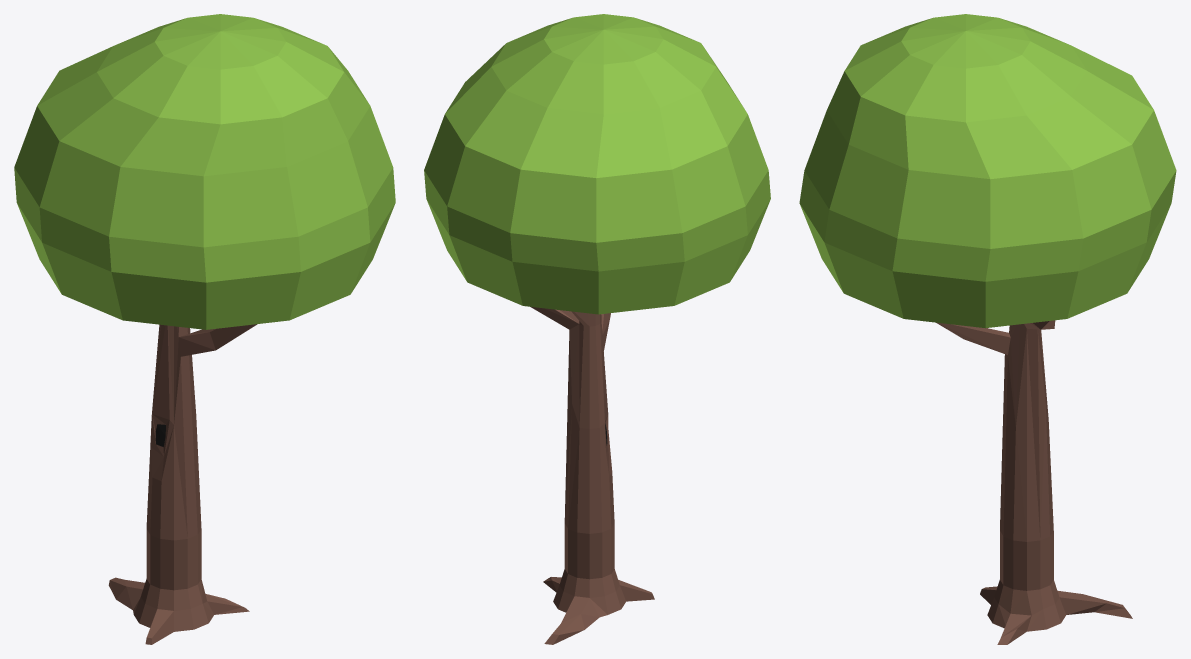
The picture shows the model from 3 angles, left to right: view 1: azimuth 30°, elevation 25°; view 2: azimuth 150°, elevation 25°; view 3: azimuth 270°, elevation 25°; orthographic projection. The views are drawn at different scales.
Parts seen in each view (by area): view 1: mesh1739489792, mesh1975193707; view 2: mesh1739489792, mesh1975193707; view 3: mesh1739489792, mesh1975193707.
Boxes of the visible parts, x1,y1,x2,y2 form: mesh1739489792: (14,14,395,329); mesh1975193707: (108,324,257,644); mesh1739489792: (424,14,770,314); mesh1975193707: (530,306,654,644); mesh1739489792: (799,14,1176,328); mesh1975193707: (936,320,1132,644).
Bounding box in the file's own units: 0.7583 × 1.34 × 0.7683.
